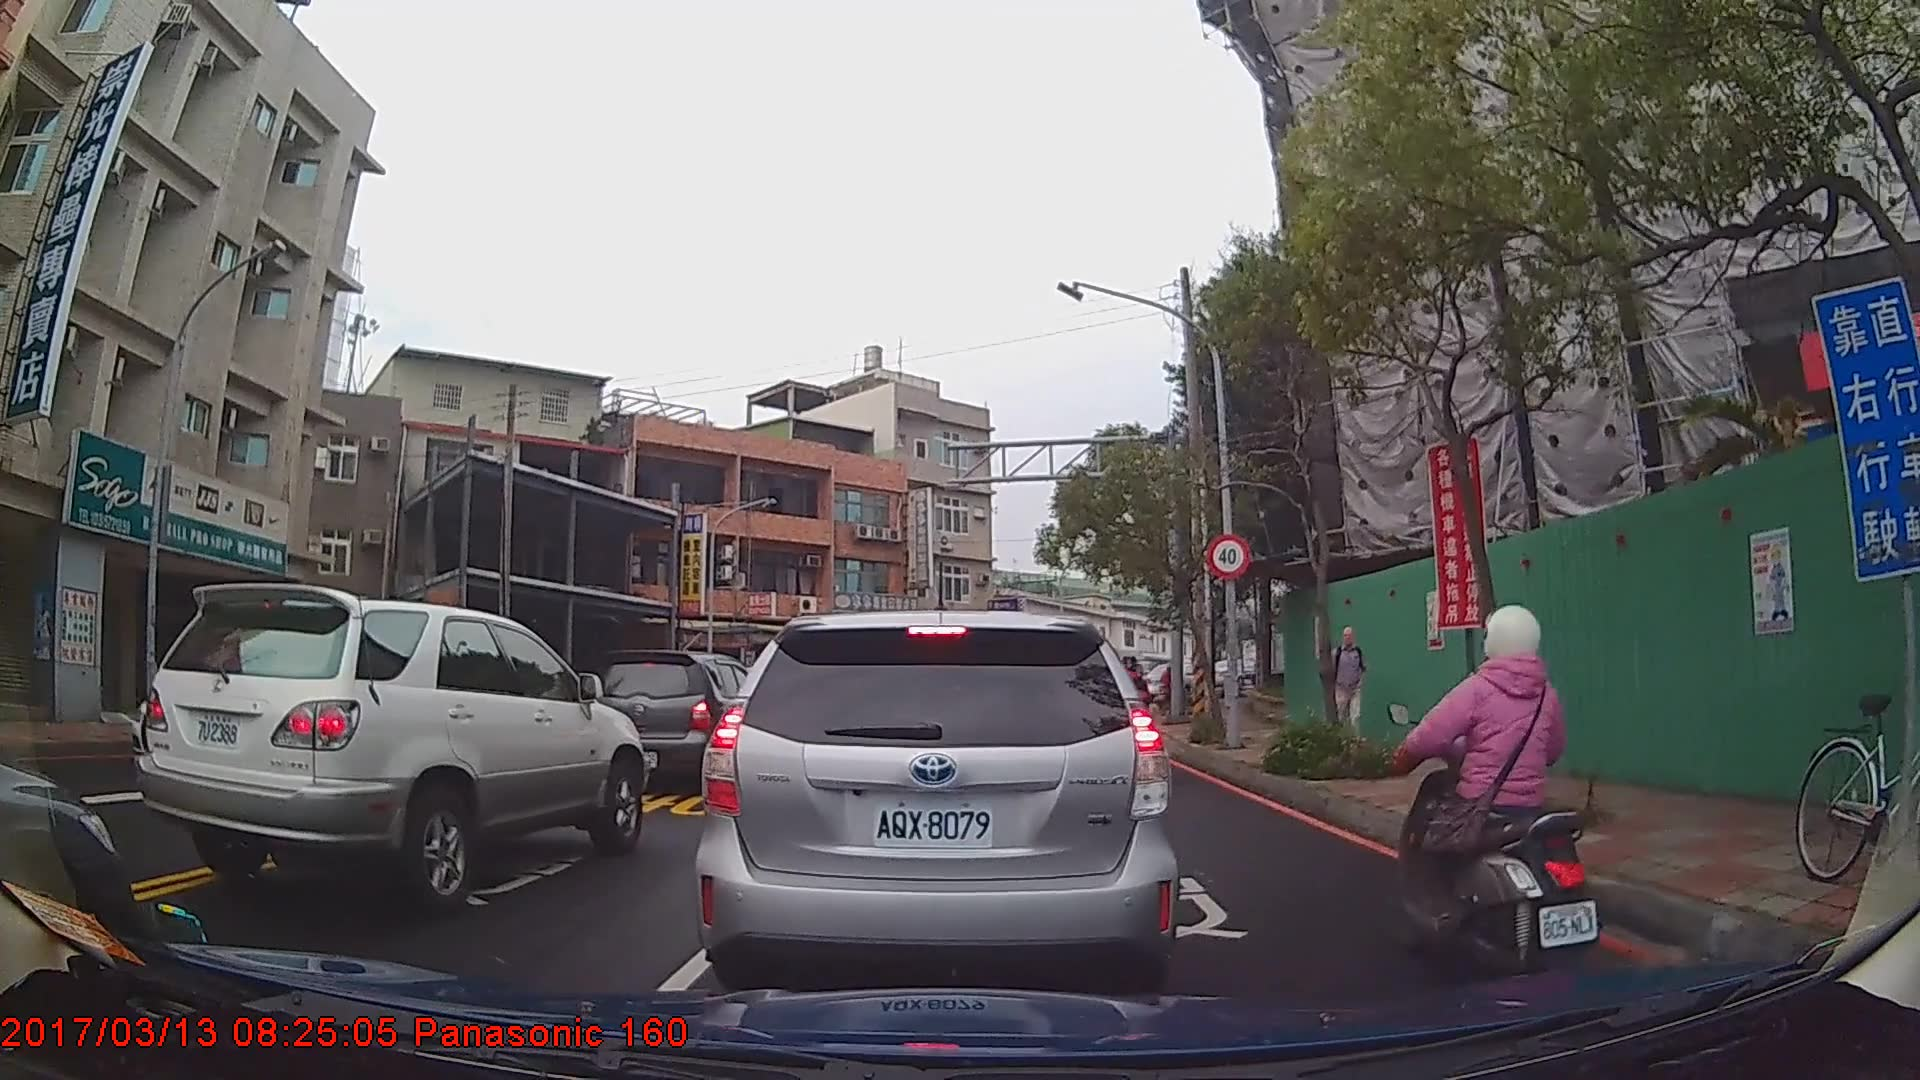pedestrian: (1328, 625, 1371, 751)
rider: (1382, 602, 1600, 995)
vehicle: (689, 609, 1180, 1020), (138, 581, 650, 916), (589, 647, 770, 785)
